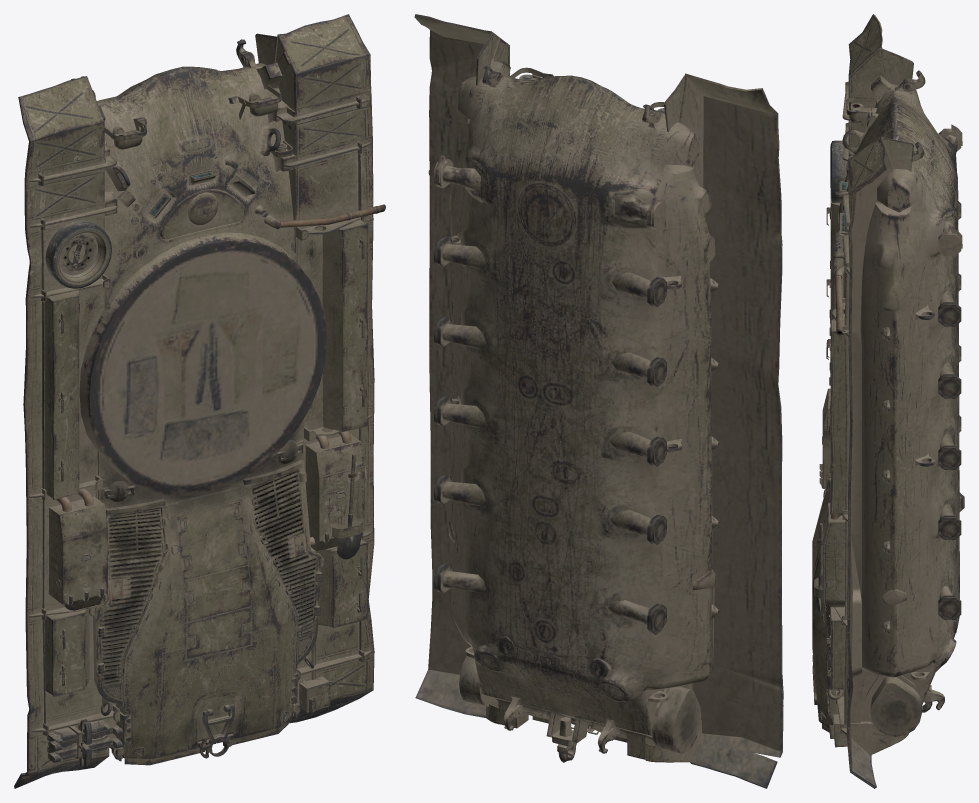
Rendered from Hull.glb.
3 views of the same model, side by side, from view 1: azimuth 30°, elevation 25°; view 2: azimuth 150°, elevation 25°; view 3: azimuth 270°, elevation 25° (orthographic). The views are drawn at different scales.
Parts seen in each view (by area): view 1: set_0_group_0; view 2: set_0_group_0; view 3: set_0_group_0.
Part boxes in pixels (x1,y1,x2,y2): set_0_group_0: (14, 14, 385, 788); set_0_group_0: (414, 14, 783, 788); set_0_group_0: (812, 14, 964, 788).
Size of the model in its own units: 3.71 by 6.93 by 1.52.
Materials: 1 (1 with a texture image).
